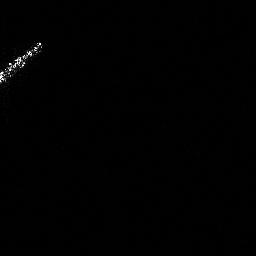ship: (1, 37, 47, 88)
